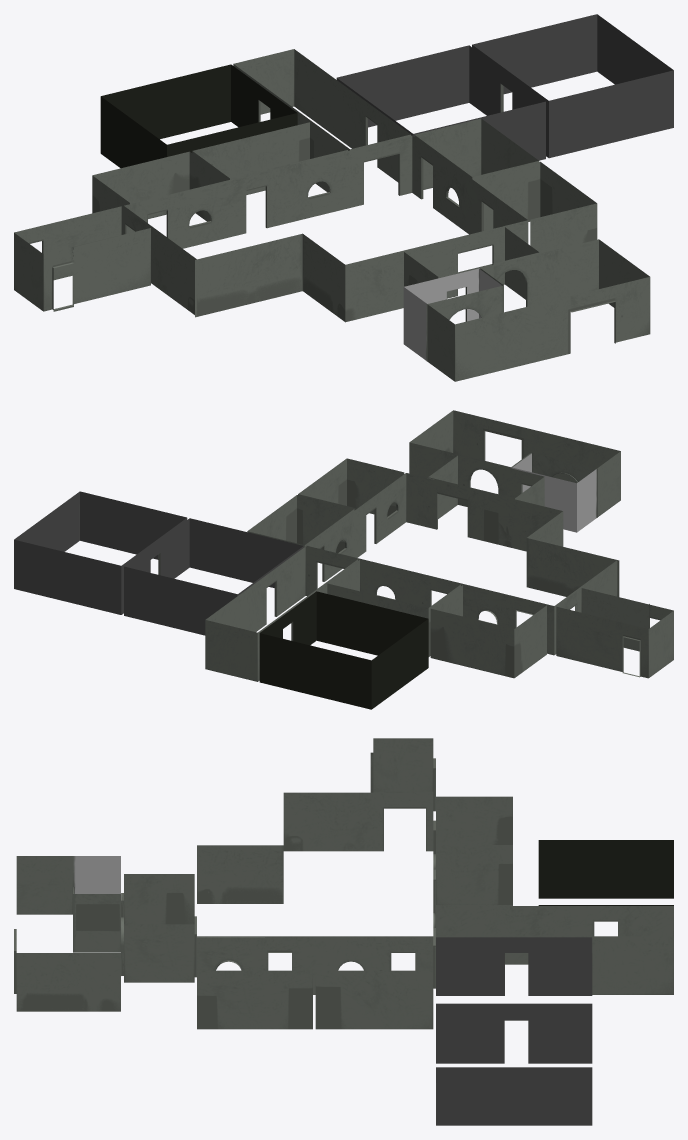
File: departament stenii.fbx
3 views of the same model, one above another, from view 1: azimuth 30°, elevation 25°; view 2: azimuth 150°, elevation 25°; view 3: azimuth 270°, elevation 25° (orthographic). The views are drawn at different scales.
Parts seen in each view (by area): view 1: polySurface5333; view 2: polySurface5333; view 3: polySurface5333.
Boxes of the visible parts, x1,y1,x2,y2 form: polySurface5333: (14,14,673,381); polySurface5333: (14,410,673,709); polySurface5333: (14,738,673,1125).
Bounding box in the file's own units: 38.66 × 3.3 × 32.77.
Materials: 1 (1 with a texture image).
